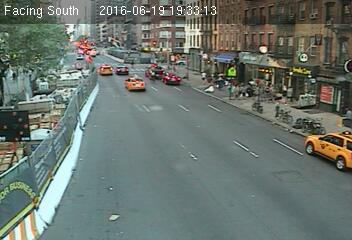neg: (252, 80, 264, 97), (297, 49, 307, 61), (237, 64, 246, 76), (176, 51, 181, 58)
pos: (270, 100, 286, 121), (198, 70, 207, 83)
